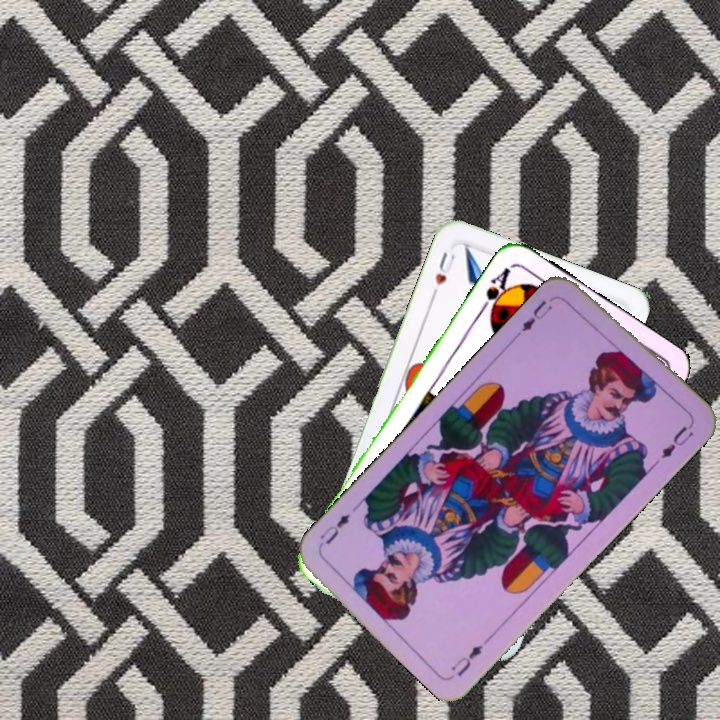EU: (446, 631, 494, 680), (513, 296, 556, 339)
HU: (427, 247, 458, 300)
SA: (476, 263, 514, 321)
